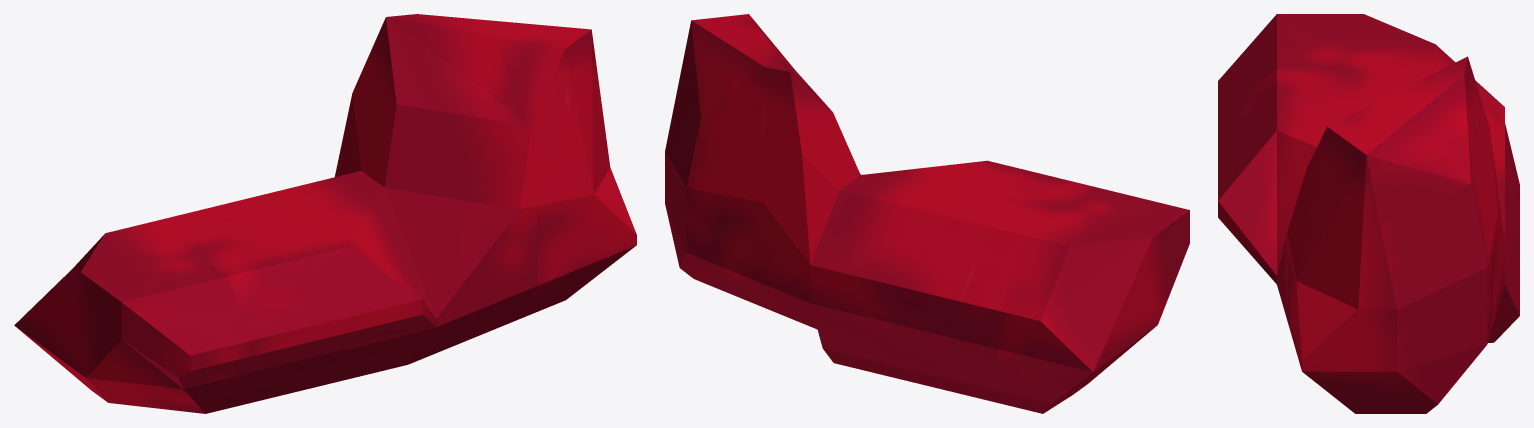
The model's file is gib3.FBX.
3 views of the same model, side by side, from view 1: azimuth 30°, elevation 25°; view 2: azimuth 150°, elevation 25°; view 3: azimuth 270°, elevation 25° (orthographic). The views are drawn at different scales.
Parts seen in each view (by area): view 1: Box003; view 2: Box003; view 3: Box003.
Part boxes in pixels (x1,y1,x2,y2): Box003: (14, 14, 636, 413); Box003: (665, 14, 1189, 413); Box003: (1218, 14, 1519, 413).
Size of the model in its own units: 24.4 by 13.26 by 11.41.
1 material, 1 textured.
